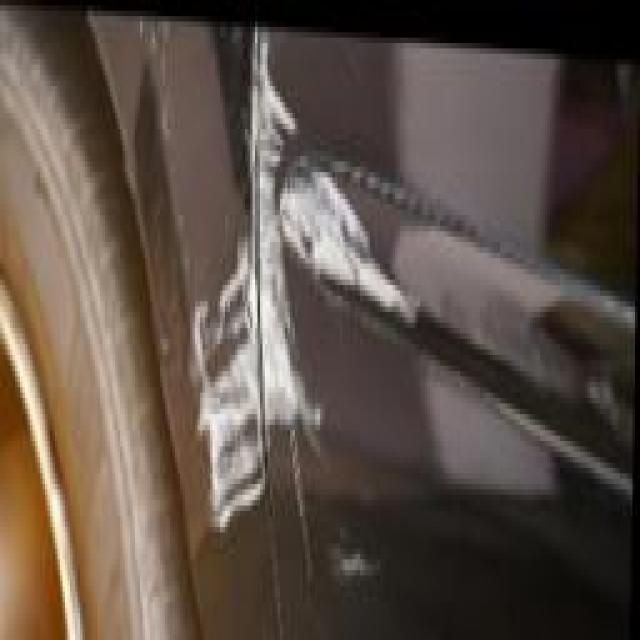Door: (260, 22, 400, 569)
Fender: (180, 22, 260, 602)
